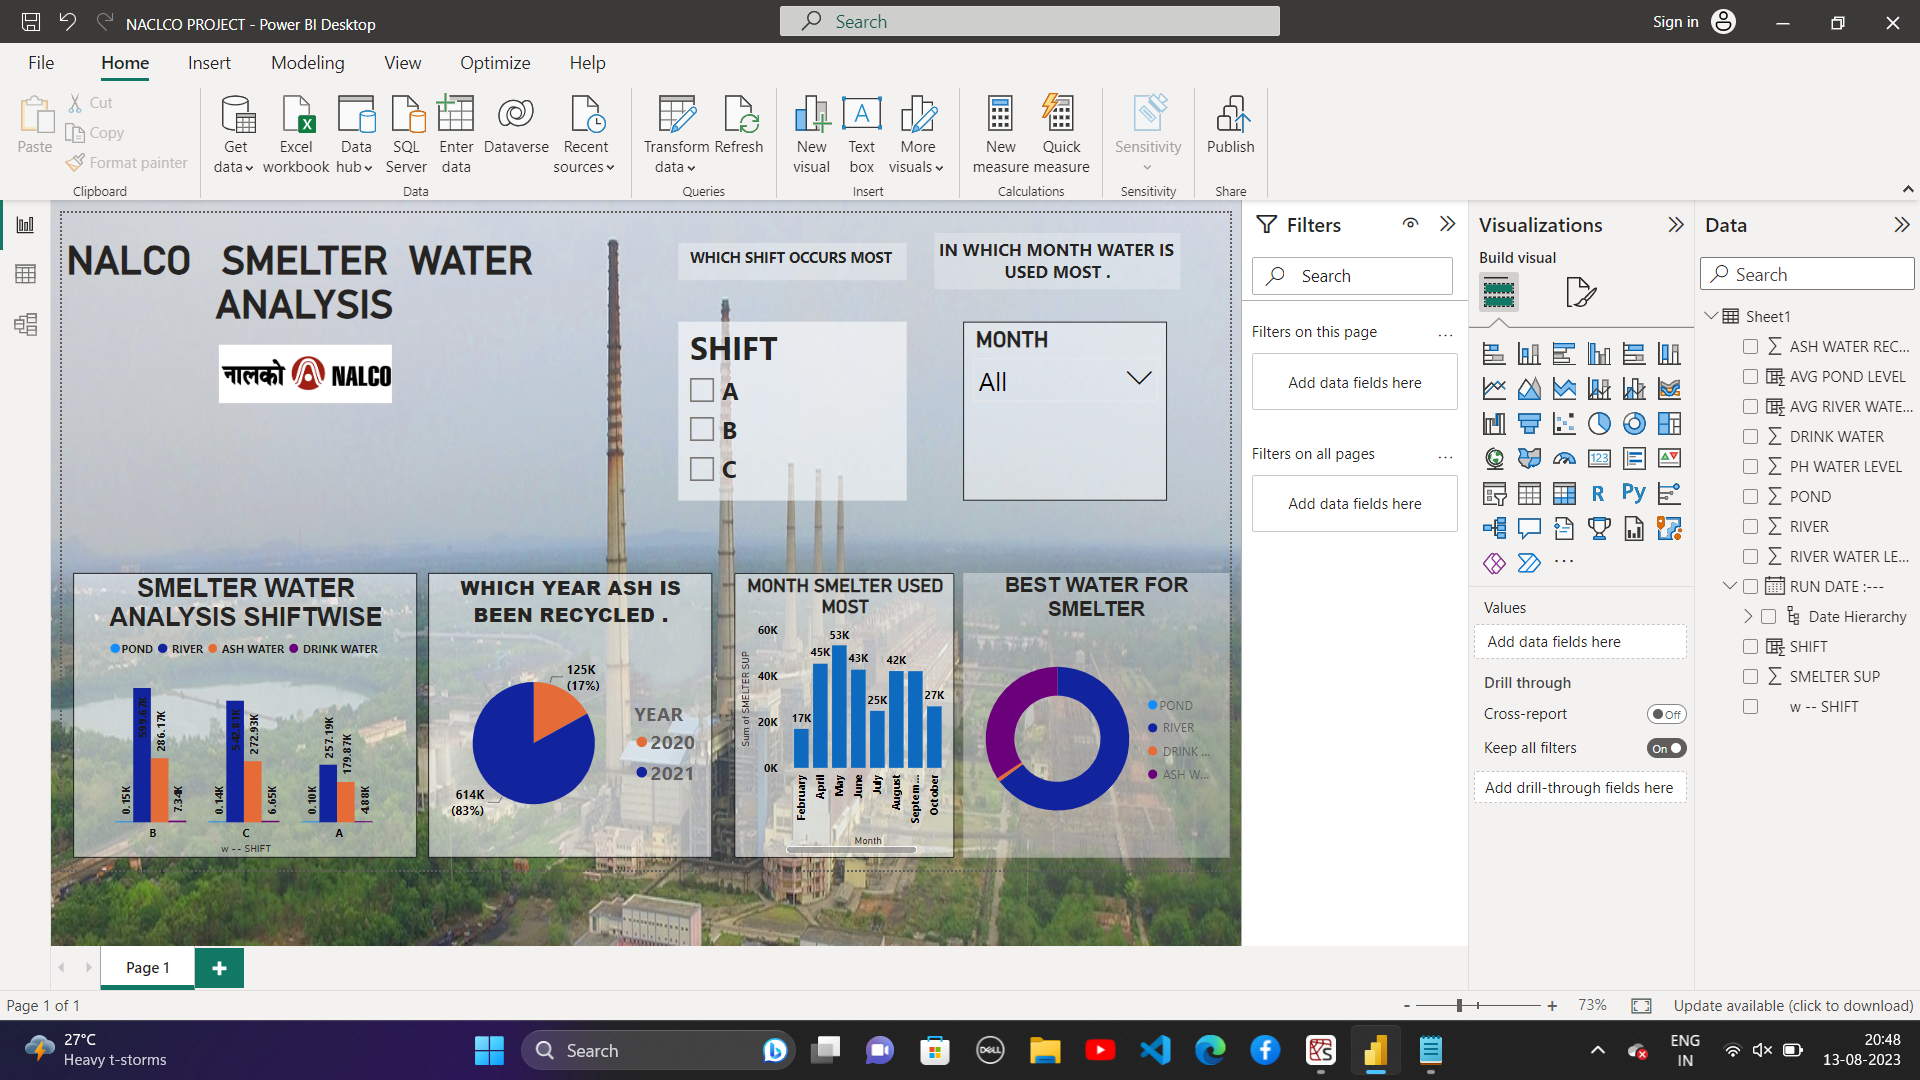

The dashboard page shown, as its layout file describes it:
{"tool":"powerbi","page":{"name":"Page 1","canvas":[1280,720],"ordinal":0},"visuals":[{"type":"textbox","box":[0,21.5,531.2,632.1],"z":0},{"type":"image","box":[166.8,134.5,199,165.4],"z":1000},{"type":"clusteredColumnChart","title":"SMELTER WATER ANALYSIS SHIFTWISE","fields":{"Category":["Sheet1.w -- SHIFT"],"Y":["Sum(Sheet1.POND LEVEL)","Sum(Sheet1.RAW WATER LEVEL)","Sum(Sheet1.ASH WATER RECYCLE)","Sum(Sheet1.DRINK WATER)"]},"box":[12.3,394.5,376.7,312.3],"z":2000},{"type":"donutChart","title":"BEST WATER FOR SMELTER","fields":{"Y":["Sum(Sheet1.POND)","Sum(Sheet1.RIVER)","Sum(Sheet1.DRINK WATER)","Sum(Sheet1.ASH WATER RECYCLE)"]},"box":[987.7,394.5,291.8,312.3],"z":3000},{"type":"slicer","fields":{"Values":["Sheet1.RUN DATE      :---"]},"box":[987.7,119.2,238.4,195.9],"z":4000},{"type":"textbox","box":[956.2,21.9,269.9,61.6],"z":5000},{"type":"slicer","fields":{"Values":["Sheet1.w -- SHIFT"]},"box":[675.3,119.2,250.7,195.9],"z":6000},{"type":"textbox","box":[675.3,32.9,250.7,41.1],"z":7000},{"type":"pieChart","title":"WHICH YEAR ASH IS BEEN RECYCLED .","fields":{"Category":["Sheet1.RUN DATE      :---.Variation.Date Hierarchy.Year","Sheet1.RUN DATE      :---.Variation.Date Hierarchy.Quarter","Sheet1.RUN DATE      :---.Variation.Date Hierarchy.Month","Sheet1.RUN DATE      :---.Variation.Date Hierarchy.Day","Sheet1.ASH WATER RECYCLE"],"Y":["Sum(Sheet1.ASH WATER RECYCLE)"]},"box":[401.4,394.5,311,312.3],"z":8000},{"type":"columnChart","title":"MONTH SMELTER USED MOST ","fields":{"Category":["Sheet1.RUN DATE      :---.Variation.Date Hierarchy.Month"],"Y":["Sum(Sheet1.SMELTER SUP)"]},"box":[737,394.5,241.1,312.3],"z":9000}]}

Visuals, with their boxes on the page's 1280x720 design canvas (x1, y1, x2, y2). These are canvas units, not pixel positions in the 1920x1080 screenshot, which may show the page scaled, cropped or inside an application window:
textbox: [0, 22, 531, 654]
image: [167, 134, 366, 300]
"SMELTER WATER ANALYSIS SHIFTWISE" clusteredColumnChart: [12, 394, 389, 707]
"BEST WATER FOR SMELTER" donutChart: [988, 394, 1280, 707]
slicer - Sheet1.RUN DATE      :---: [988, 119, 1226, 315]
textbox: [956, 22, 1226, 84]
slicer - Sheet1.w -- SHIFT: [675, 119, 926, 315]
textbox: [675, 33, 926, 74]
"WHICH YEAR ASH IS BEEN RECYCLED ." pieChart: [401, 394, 712, 707]
"MONTH SMELTER USED MOST " columnChart: [737, 394, 978, 707]
